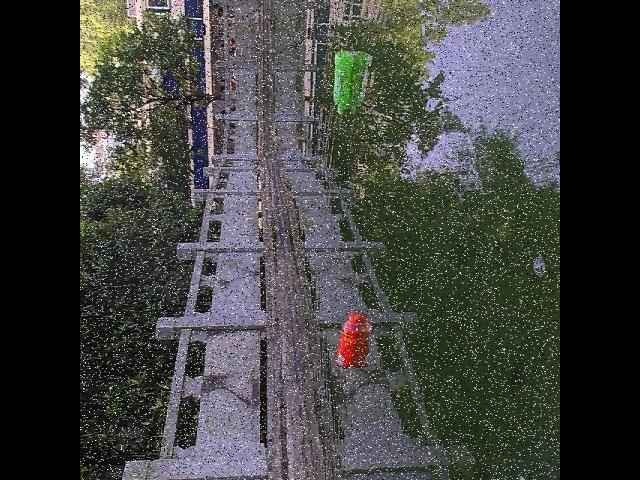Bottle: (332, 304, 366, 372), (330, 43, 360, 119)
